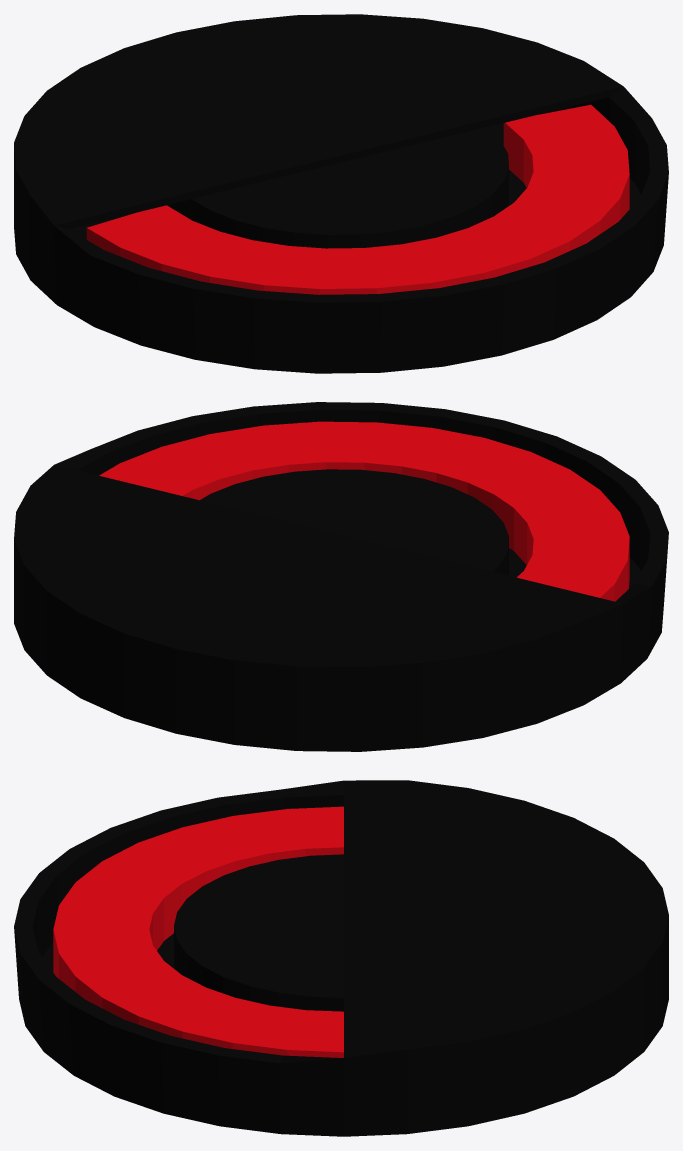
The model's file is indicator.fbx.
3 views of the same model, one above another, from view 1: azimuth 30°, elevation 25°; view 2: azimuth 150°, elevation 25°; view 3: azimuth 270°, elevation 25° (orthographic).
Visible parts, largest first — view 1: Cylinder.002, Cylinder, Cylinder.001; view 2: Cylinder.002, Cylinder, Cylinder.001; view 3: Cylinder.002, Cylinder, Cylinder.001.
Part boxes in pixels (<box>): Cylinder.002: <box>14,14,668,373</box>; Cylinder: <box>86,104,629,294</box>; Cylinder.001: <box>169,127,508,248</box>; Cylinder.002: <box>14,402,668,751</box>; Cylinder: <box>99,421,629,601</box>; Cylinder.001: <box>200,469,508,575</box>; Cylinder.002: <box>14,780,668,1136</box>; Cylinder: <box>53,806,343,1057</box>; Cylinder.001: <box>174,854,343,1011</box>.
Size of the model in its own units: 2.26 by 0.321 by 2.25.
